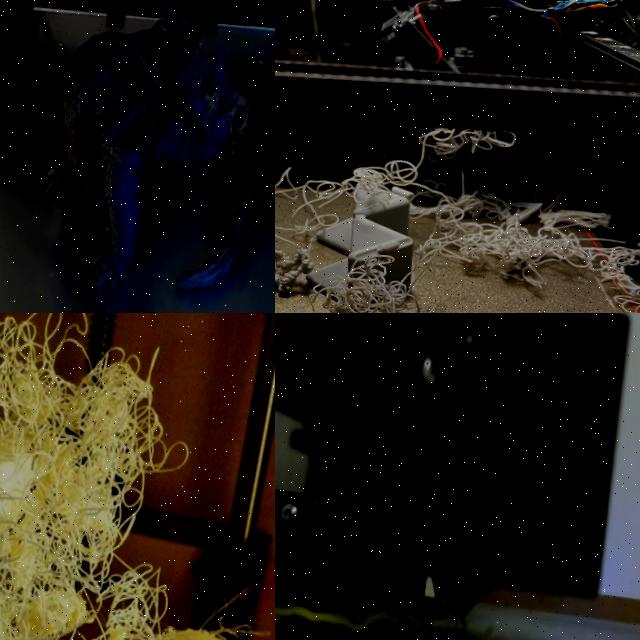spaghetti: (362, 113, 640, 313), (275, 603, 468, 638), (468, 605, 497, 640)
